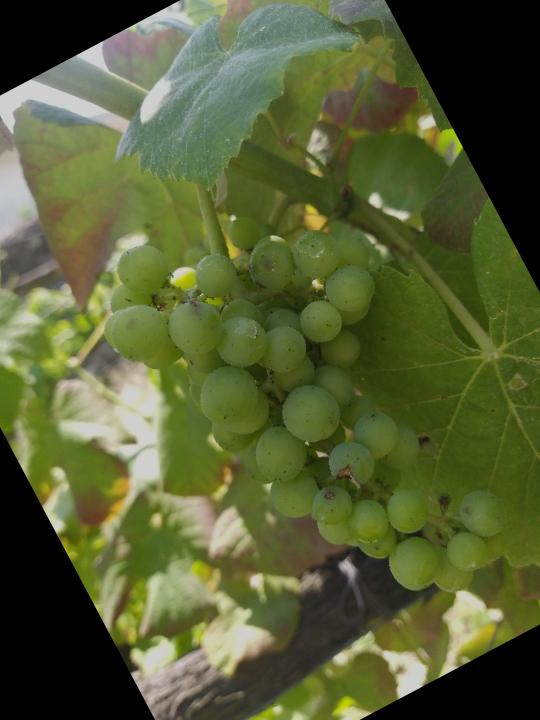grape: (72, 142, 540, 687)
